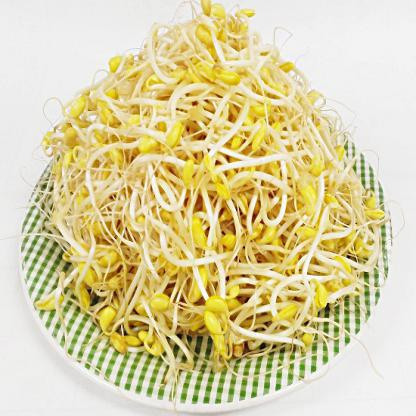bean sprouts: (83, 21, 379, 340)
